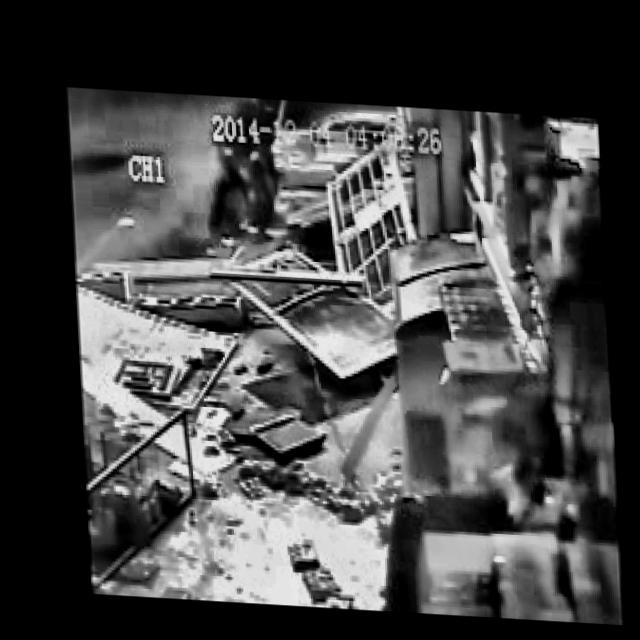burglary: (193, 92, 315, 254)
